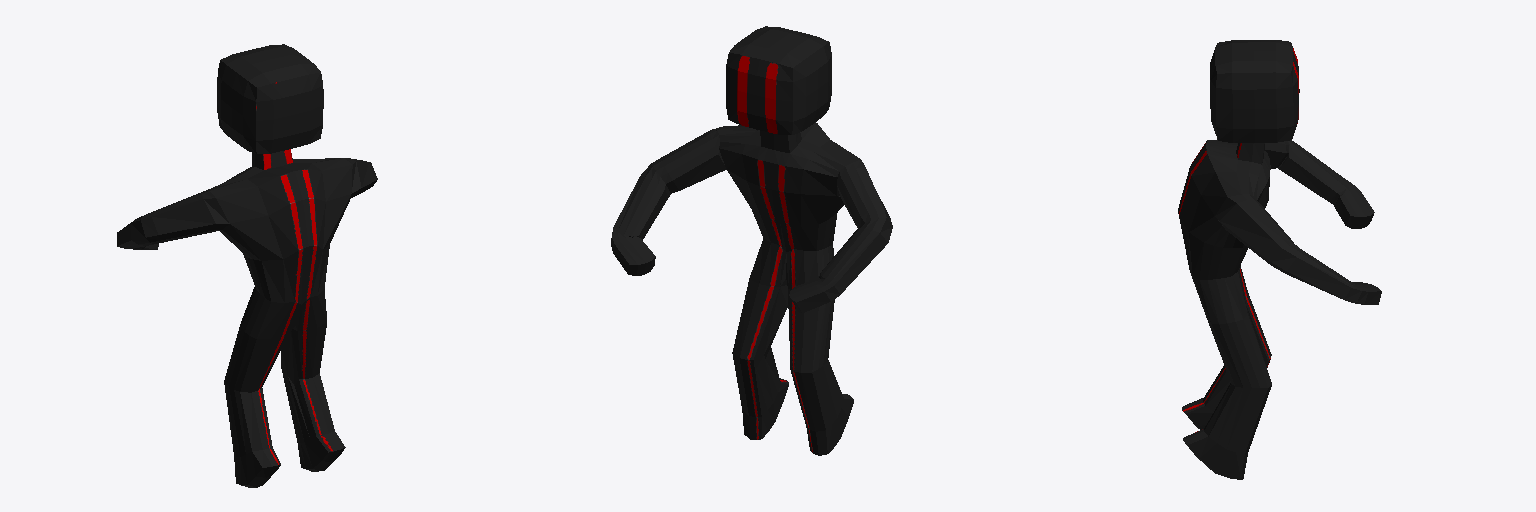
3 views of the same model, side by side, from view 1: azimuth 30°, elevation 25°; view 2: azimuth 150°, elevation 25°; view 3: azimuth 270°, elevation 25° (orthographic).
Parts seen in each view (by area): view 1: 立方体_立方体.001; view 2: 立方体_立方体.001; view 3: 立方体_立方体.001.
Part boxes in pixels (x1,y1,x2,y2): 立方体_立方体.001: (117, 44, 377, 487); 立方体_立方体.001: (611, 26, 892, 455); 立方体_立方体.001: (1178, 40, 1381, 479).
Size of the model in its own units: 1.97 by 3.16 by 1.42.
Materials: 1 (1 with a texture image).